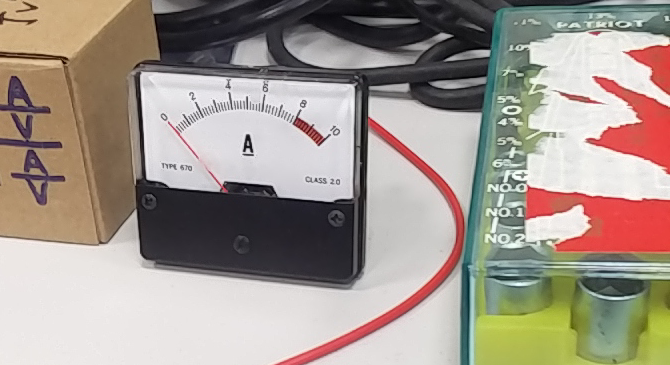Amp_Meter: (137, 64, 363, 209)
